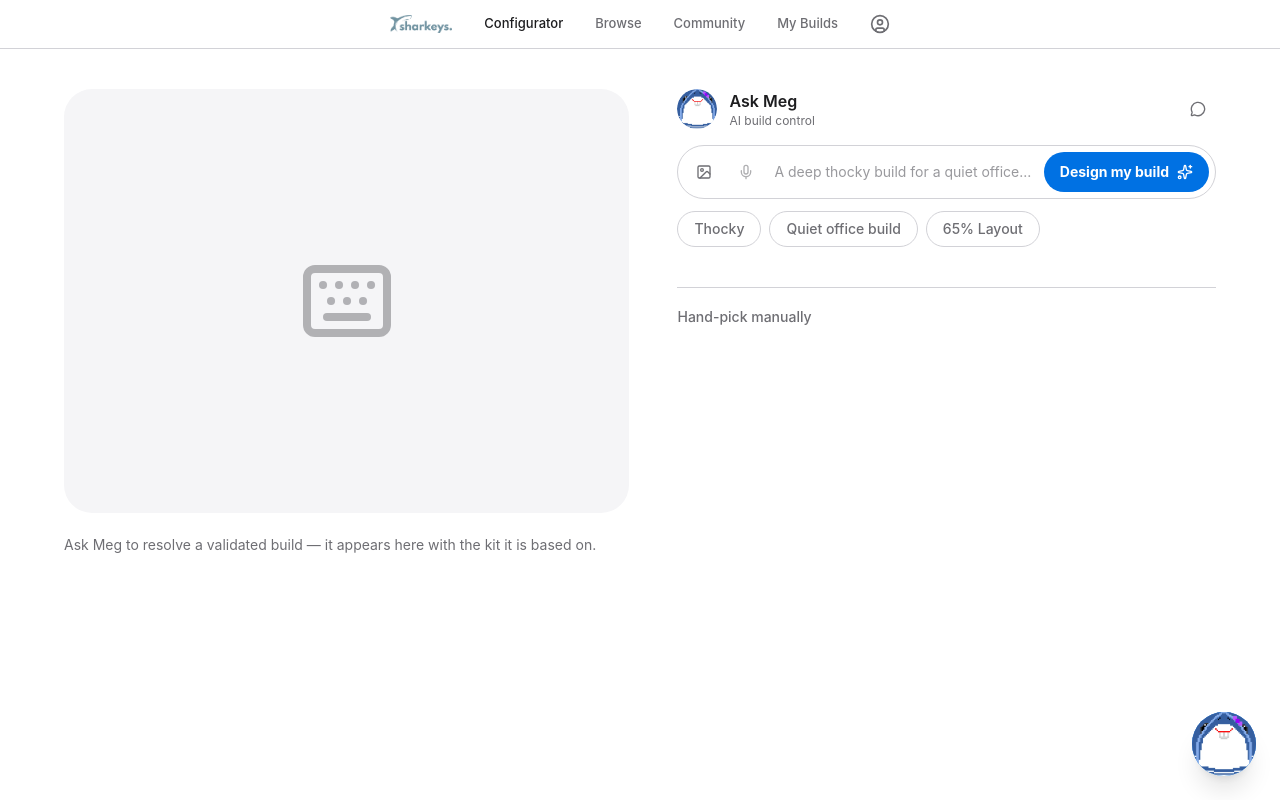
RecommendationDemo › sends quick action chips as real Keybot messages
Click the button named "Open Meg assistant" at (1224, 744), box x1=1192 y1=712 x2=1256 y2=776
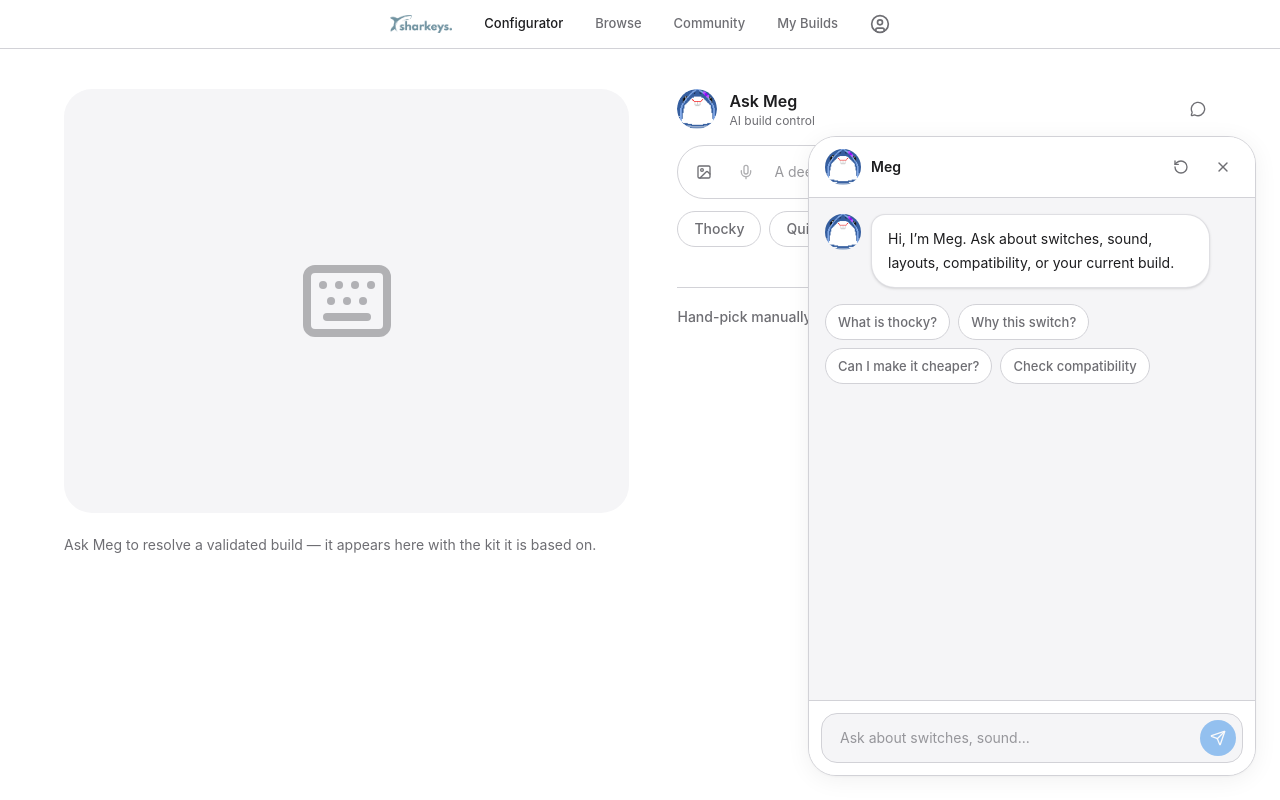
Click the button "What is thocky?" at (888, 322), box x1=825 y1=304 x2=950 y2=340
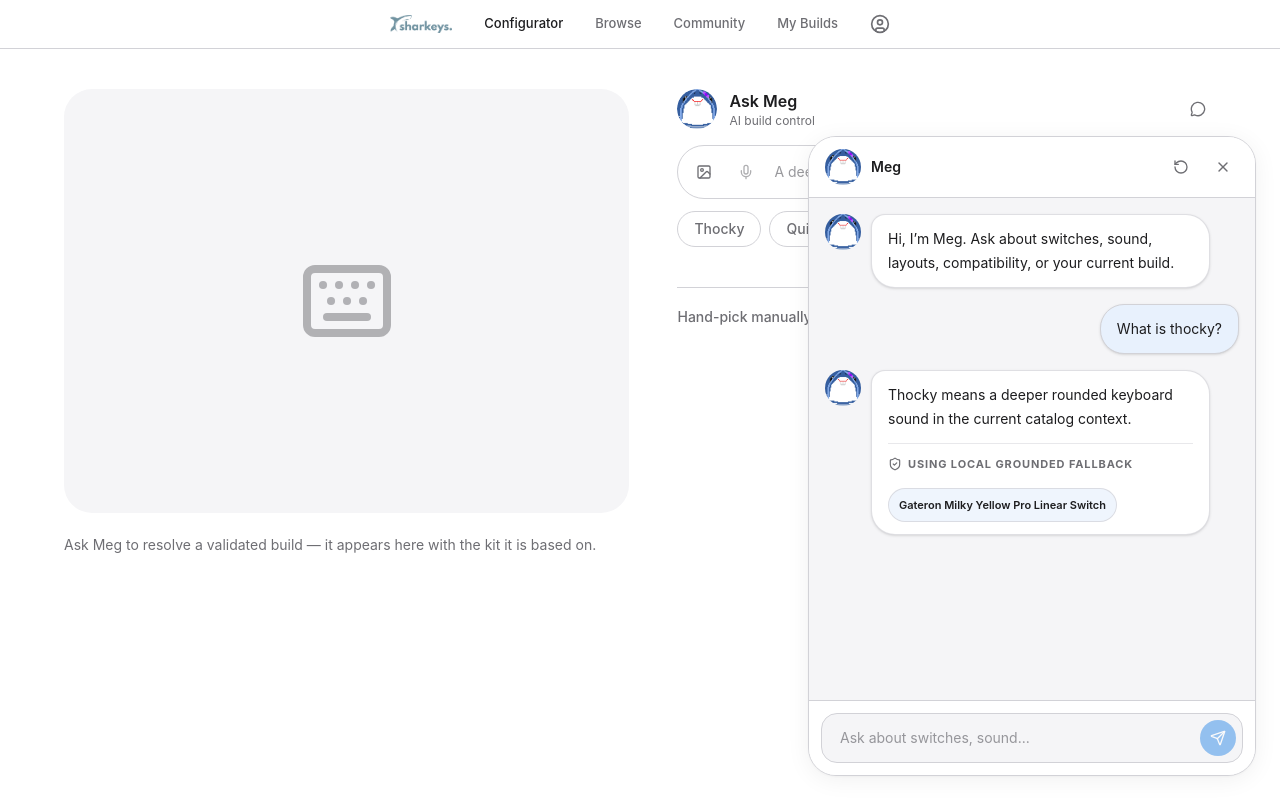
Check: the text "What is thocky?" is shown, box x1=1117 y1=317 x2=1222 y2=341
Check: the text "deeper rounded keyboard sound" is shown, box x1=888 y1=386 x2=1173 y2=427
